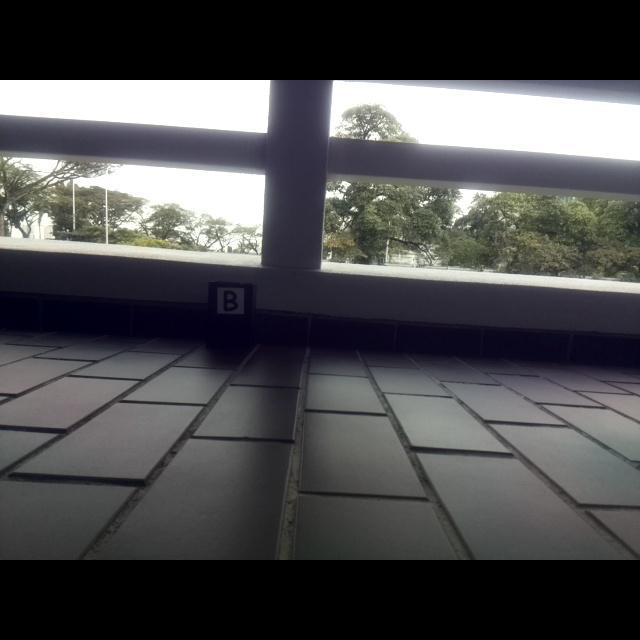B: (222, 289, 238, 312)
